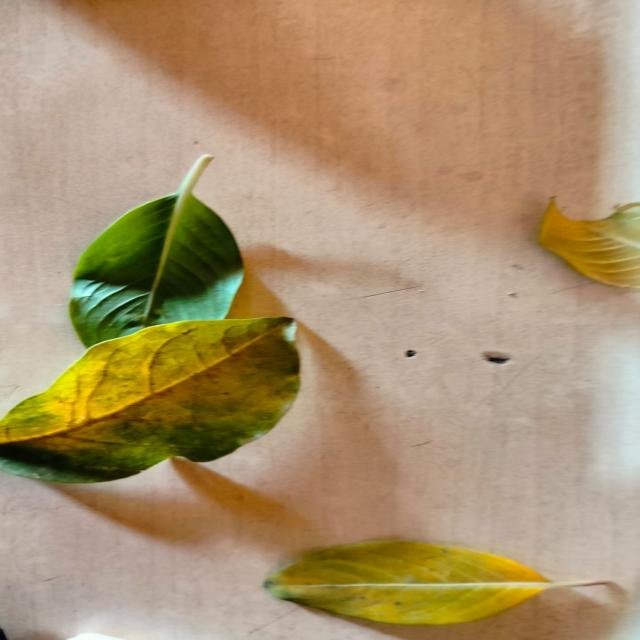Leaves: (0, 317, 303, 487), (68, 160, 246, 350), (266, 538, 558, 628), (532, 198, 640, 294)
